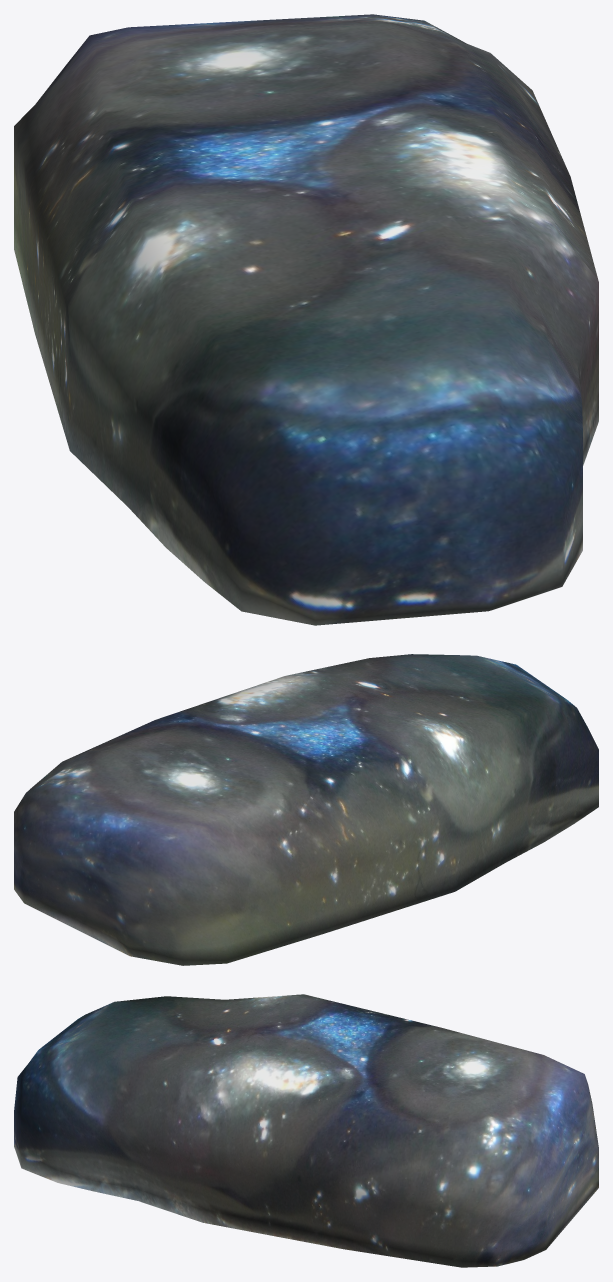
Rendered from blueNail.glb.
3 views of the same model, one above another, from view 1: azimuth 30°, elevation 25°; view 2: azimuth 150°, elevation 25°; view 3: azimuth 270°, elevation 25° (orthographic). The views are drawn at different scales.
Parts seen in each view (by area): view 1: blue-nail; view 2: blue-nail; view 3: blue-nail.
Part boxes in pixels (x1=…): blue-nail: x1=14, y1=14, x2=598, y2=625; blue-nail: x1=14, y1=654, x2=598, y2=965; blue-nail: x1=14, y1=994, x2=598, y2=1267.
Size of the model in its own units: 466 by 168 by 667.
Materials: 1 (1 with a texture image).
